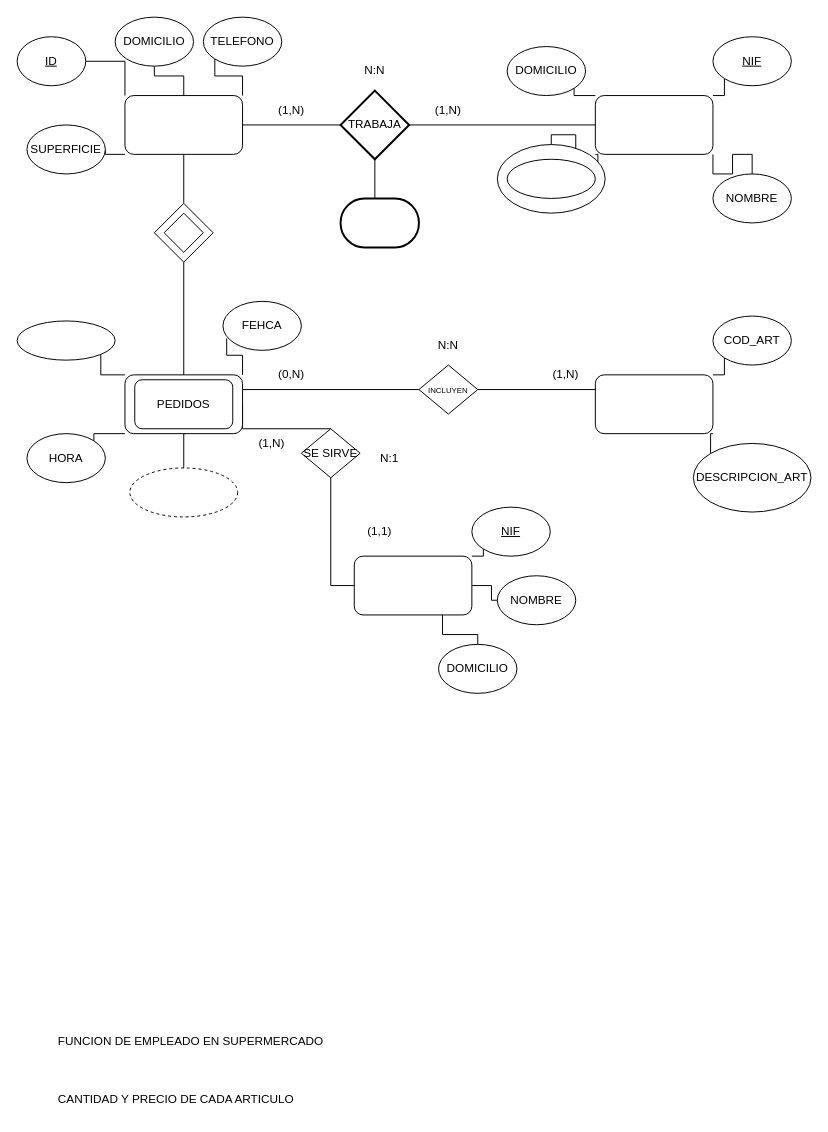
This 828x1132 diagram has some shape labels left out. Each missing label, with the centre of its shape:
"ARTICULO" goes at point 653,404.
"CAPACIDADES" goes at point 550,178.
"CLIENTES" goes at point 412,585.
"EMPLEADO" goes at point 653,124.
"FUNCION" goes at point 379,222.
"IMPORTE_TOTAL" goes at point 183,492.
"NUMERO" goes at point 65,340.
"SIRVEN" goes at point 183,232.
"SUPERMERCADO" goes at point 183,124.
